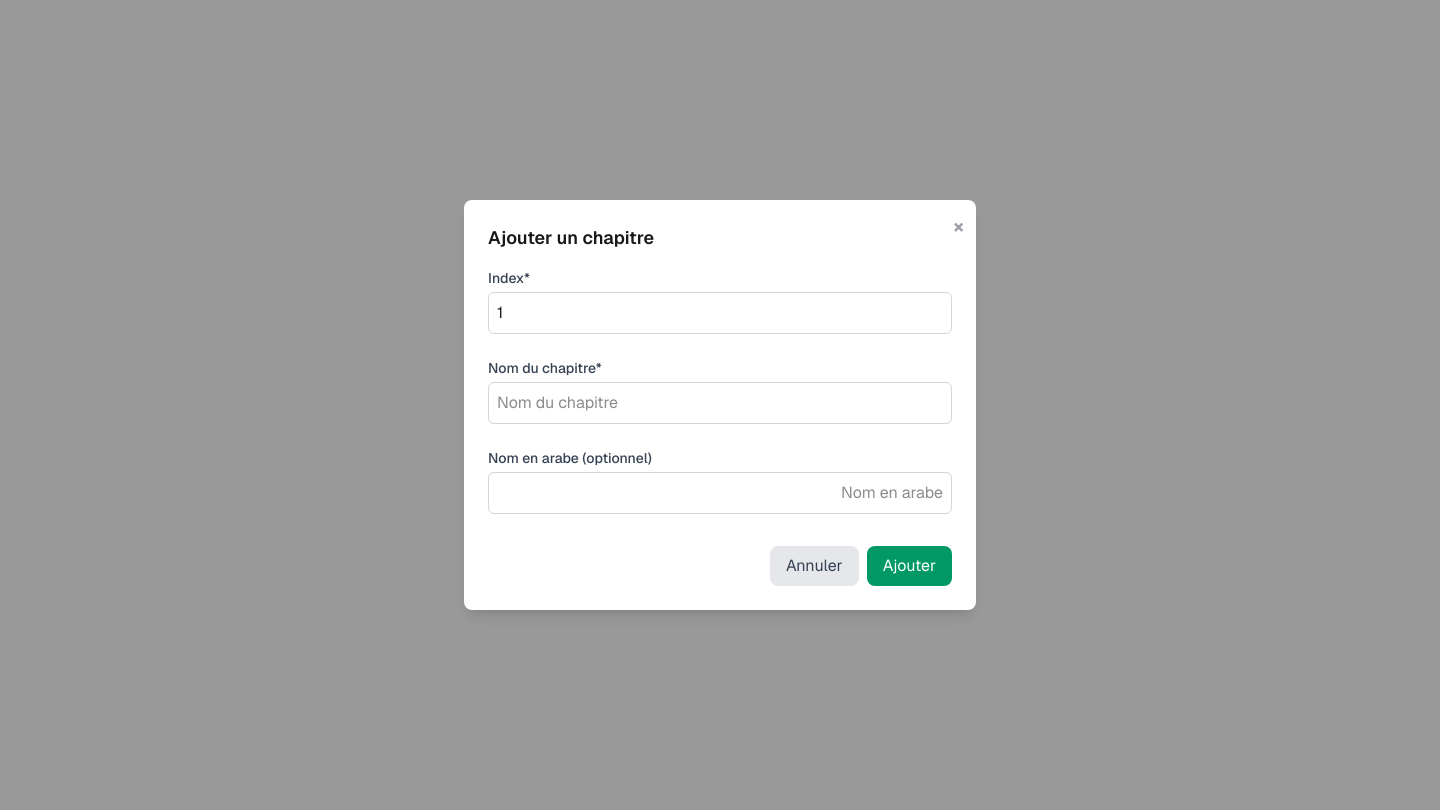
Test: AddItemFormDialog › shows validation error if chapter index already exists
Type "Nouveau Chapitre" into the field labelled "Nom du chapitre*" at (720, 403), box [488,382,952,424]
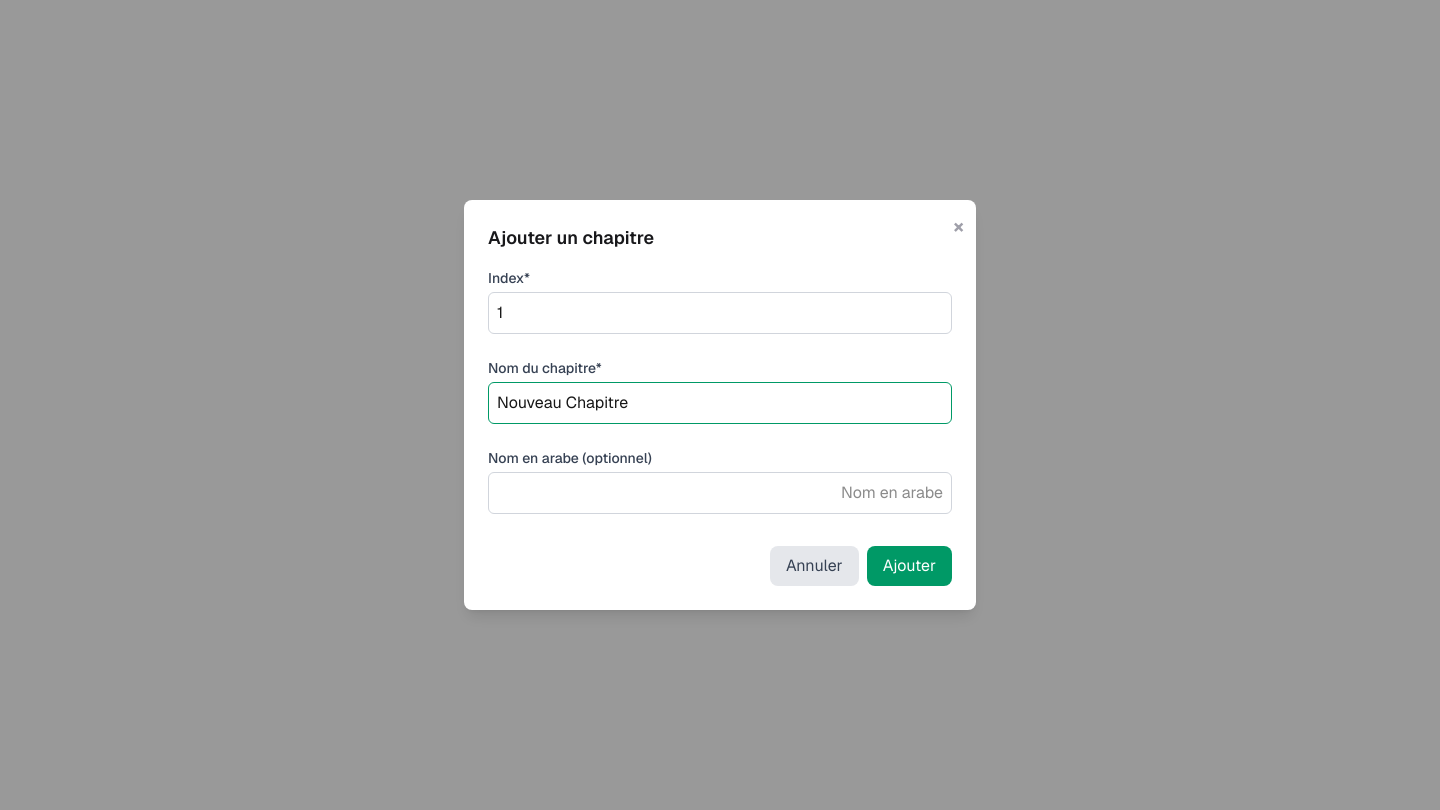
Click the button "Ajouter" at (909, 566), box [867,546,952,586]
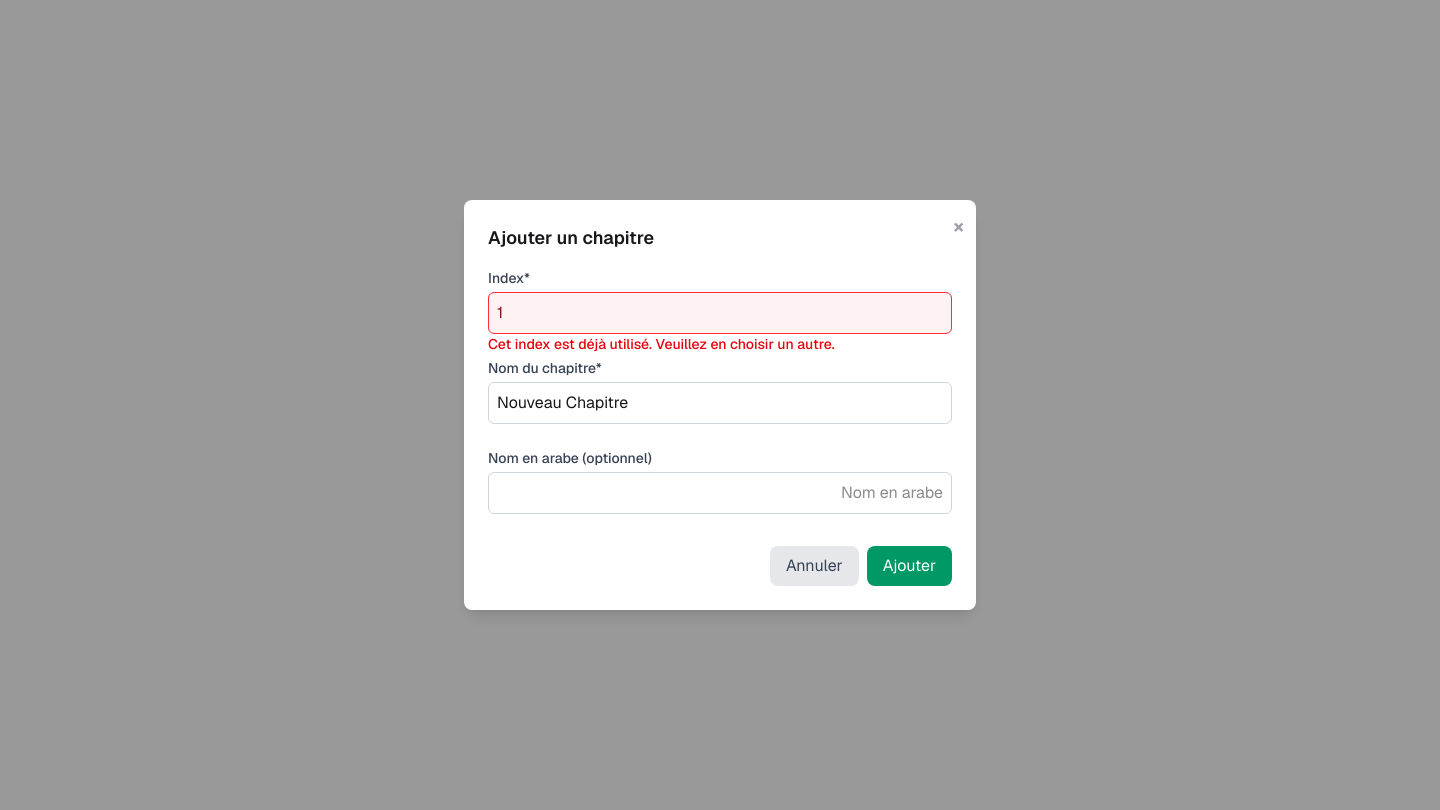
Now the text "Cet index est déjà utilisé. Veuillez en choisir un autre." is shown, box [488,334,835,354]
